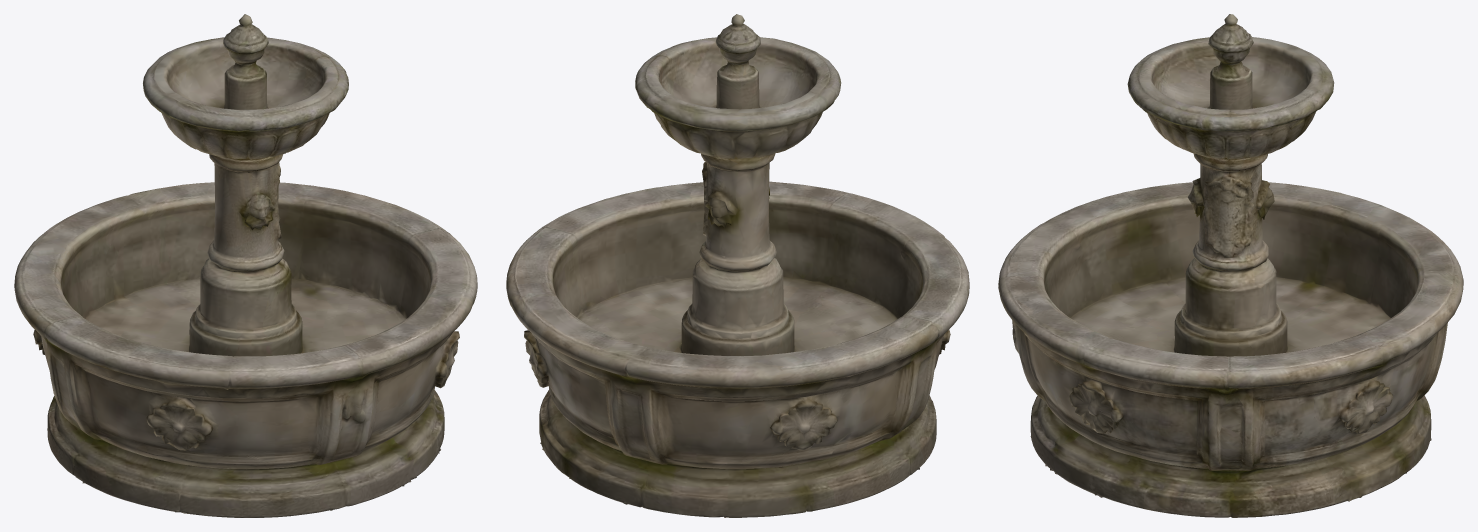
File: prop_fountain.glb
3 renders of one model, left to right at view 1: azimuth 30°, elevation 25°; view 2: azimuth 150°, elevation 25°; view 3: azimuth 270°, elevation 25°, orthographic.
Visible parts, largest first — view 1: tripo_node_150229c5-8b65-4208-aeaf-5d696c532151; view 2: tripo_node_150229c5-8b65-4208-aeaf-5d696c532151; view 3: tripo_node_150229c5-8b65-4208-aeaf-5d696c532151.
Boxes of the visible parts, left/top/right/bottom form: tripo_node_150229c5-8b65-4208-aeaf-5d696c532151: left=14, top=14, right=477, bottom=517; tripo_node_150229c5-8b65-4208-aeaf-5d696c532151: left=506, top=14, right=969, bottom=517; tripo_node_150229c5-8b65-4208-aeaf-5d696c532151: left=998, top=14, right=1463, bottom=517.
Bounding box in the file's own units: 0.9996 × 0.9953 × 1.
Materials: 1 (1 with a texture image).
